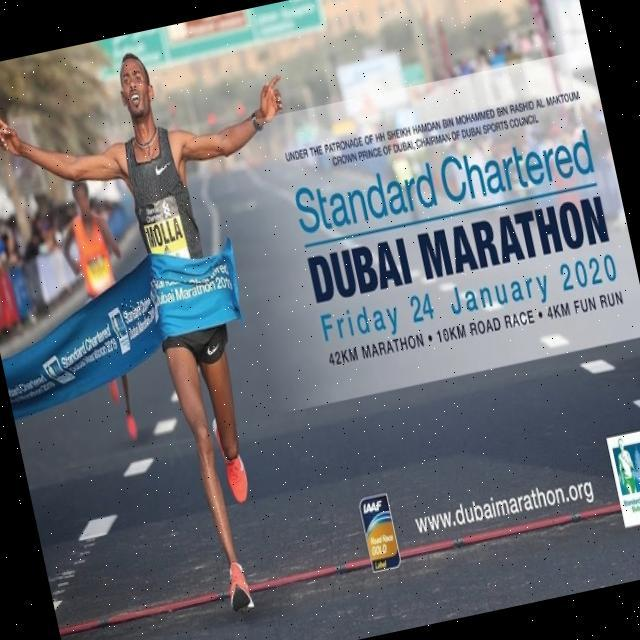Nike: (153, 161, 173, 176), (206, 342, 221, 356)
Standard Chartered: (290, 122, 597, 239), (56, 322, 116, 369), (120, 296, 155, 324)
